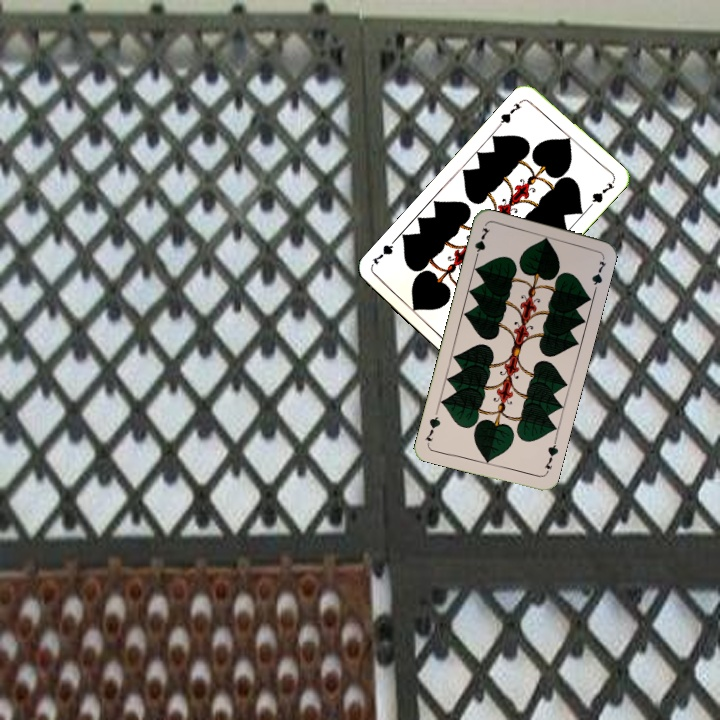G7: (495, 96, 526, 129), (471, 223, 492, 263), (540, 437, 561, 477)
